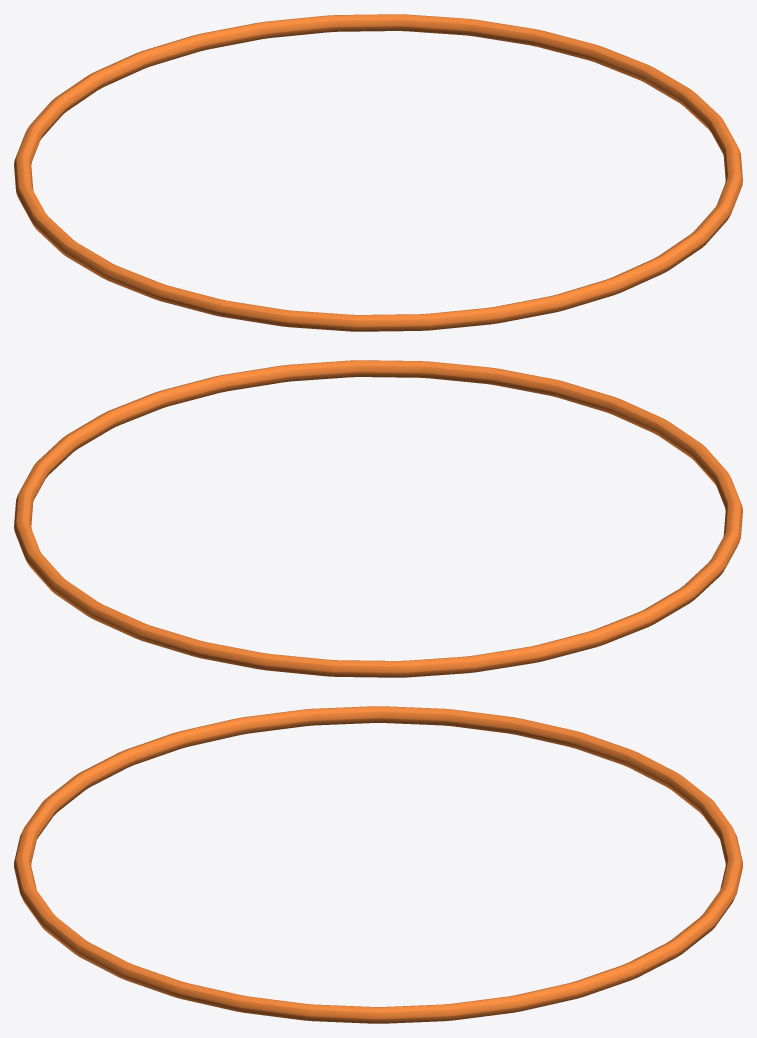
Rendered from Hoop.fbx.
3 renders of one model, top to bottom at view 1: azimuth 30°, elevation 25°; view 2: azimuth 150°, elevation 25°; view 3: azimuth 270°, elevation 25°, orthographic.
Parts seen in each view (by area): view 1: Hoola Hoop; view 2: Hoola Hoop; view 3: Hoola Hoop.
Part boxes in pixels (x1,y1,x2,y2): Hoola Hoop: (14,14,742,331); Hoola Hoop: (14,360,742,677); Hoola Hoop: (14,706,742,1023).
Bounding box in the file's own units: 219 × 5.19 × 219.
